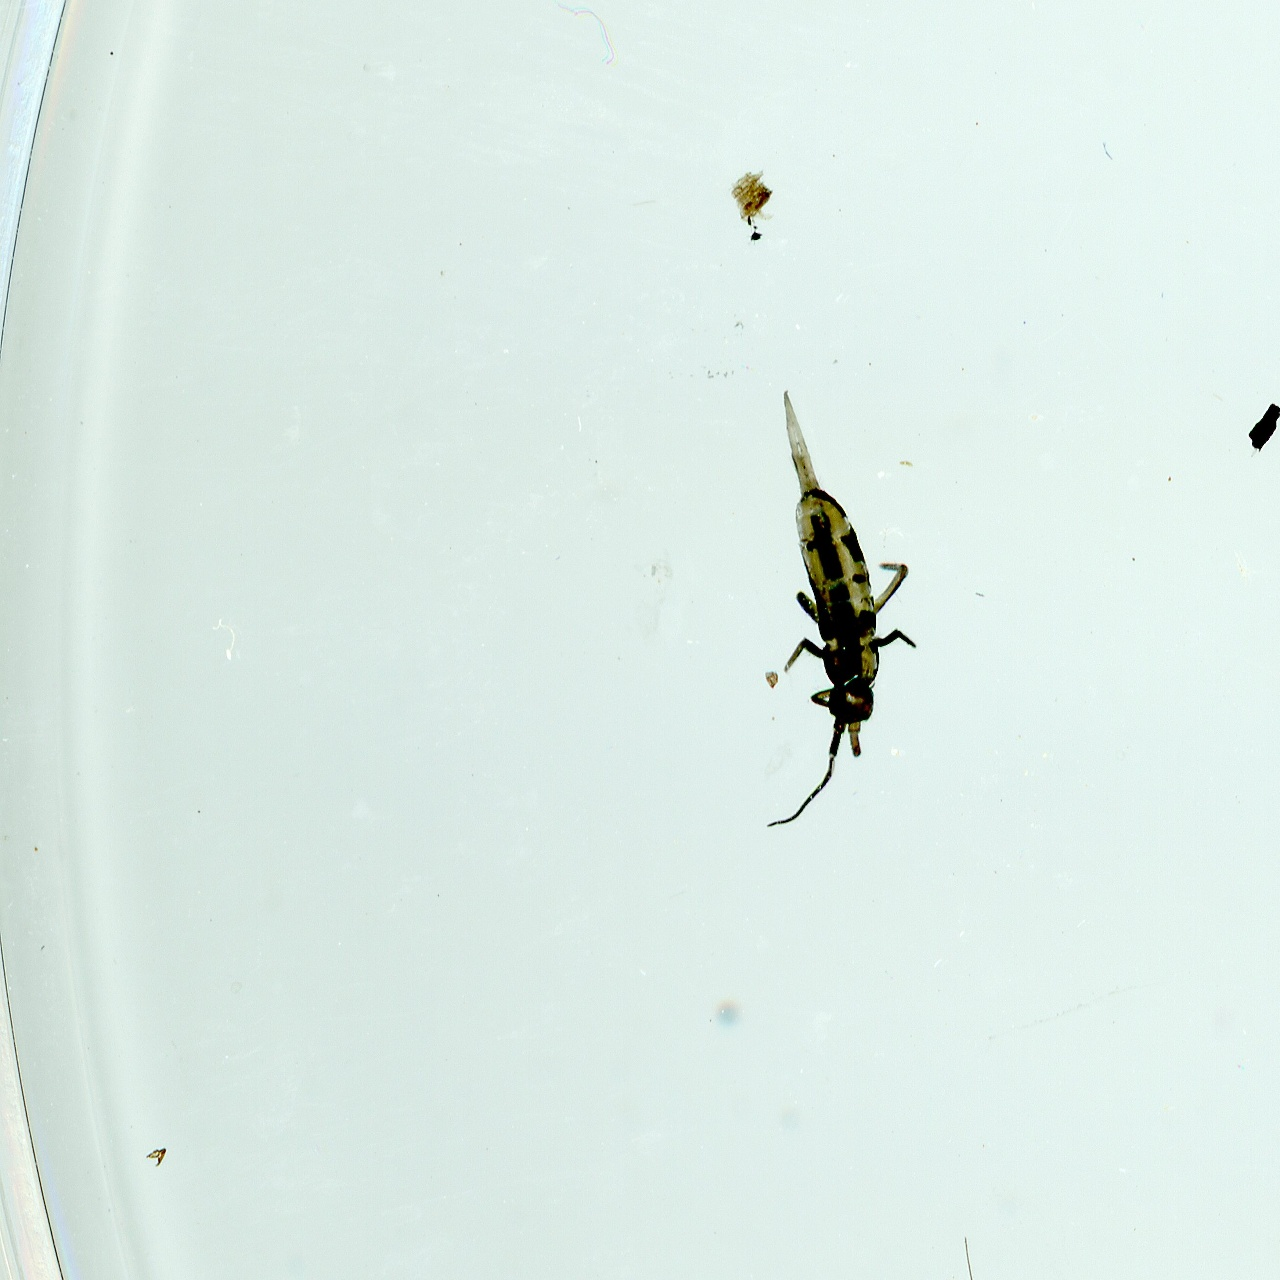arthropod: (755, 381, 924, 833), (795, 1205, 1149, 1280)
